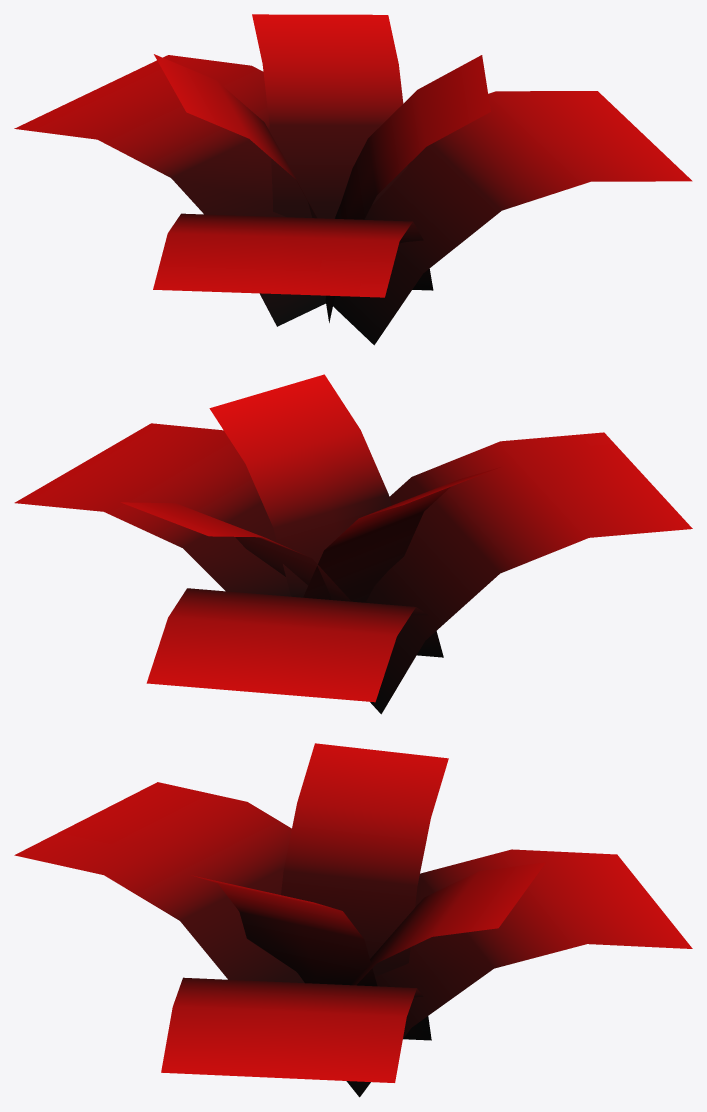
Rendered from SM_ENV_PLANT_leaf_village.fbx.
3 renders of one model, top to bottom at view 1: azimuth 30°, elevation 25°; view 2: azimuth 150°, elevation 25°; view 3: azimuth 270°, elevation 25°, orthographic.
Visible parts, largest first — view 1: SM_ENV_PLANT_leaf_village; view 2: SM_ENV_PLANT_leaf_village; view 3: SM_ENV_PLANT_leaf_village.
Boxes of the visible parts, bbox=[...] form: SM_ENV_PLANT_leaf_village: bbox=[14, 14, 692, 345]; SM_ENV_PLANT_leaf_village: bbox=[14, 374, 692, 714]; SM_ENV_PLANT_leaf_village: bbox=[14, 743, 692, 1097].
Bounding box in the file's own units: 204 × 79.04 × 212.
